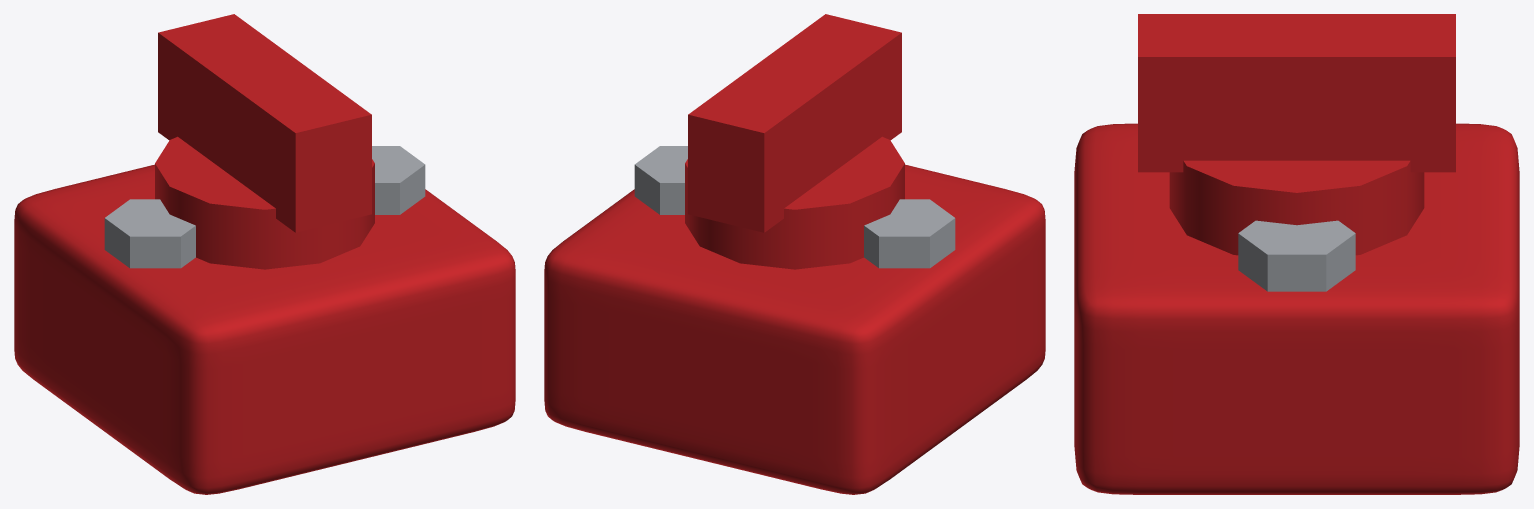
Rendered from battery_switch_blue_sea_6006.glb.
3 views of the same model, side by side, from view 1: azimuth 30°, elevation 25°; view 2: azimuth 150°, elevation 25°; view 3: azimuth 270°, elevation 25° (orthographic). The views are drawn at different scales.
Parts seen in each view (by area): view 1: battery_switch_blue_sea_6006, knob; view 2: battery_switch_blue_sea_6006, knob; view 3: battery_switch_blue_sea_6006, knob.
Part boxes in pixels (box(x1,y1,x2,y2)): battery_switch_blue_sea_6006: box(14, 146, 515, 494); knob: box(155, 14, 374, 269); battery_switch_blue_sea_6006: box(544, 146, 1045, 494); knob: box(685, 14, 904, 269); battery_switch_blue_sea_6006: box(1074, 123, 1519, 494); knob: box(1138, 14, 1455, 255).
Bounding box in the file's own units: 0.07 × 0.065 × 0.07.
